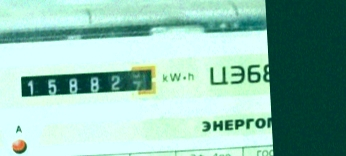1: (25, 77, 35, 94)
2: (109, 72, 120, 89)
5: (46, 76, 57, 92)
7: (131, 78, 141, 89)
8: (88, 74, 99, 91), (67, 76, 78, 92)
screen: (12, 58, 162, 105)
